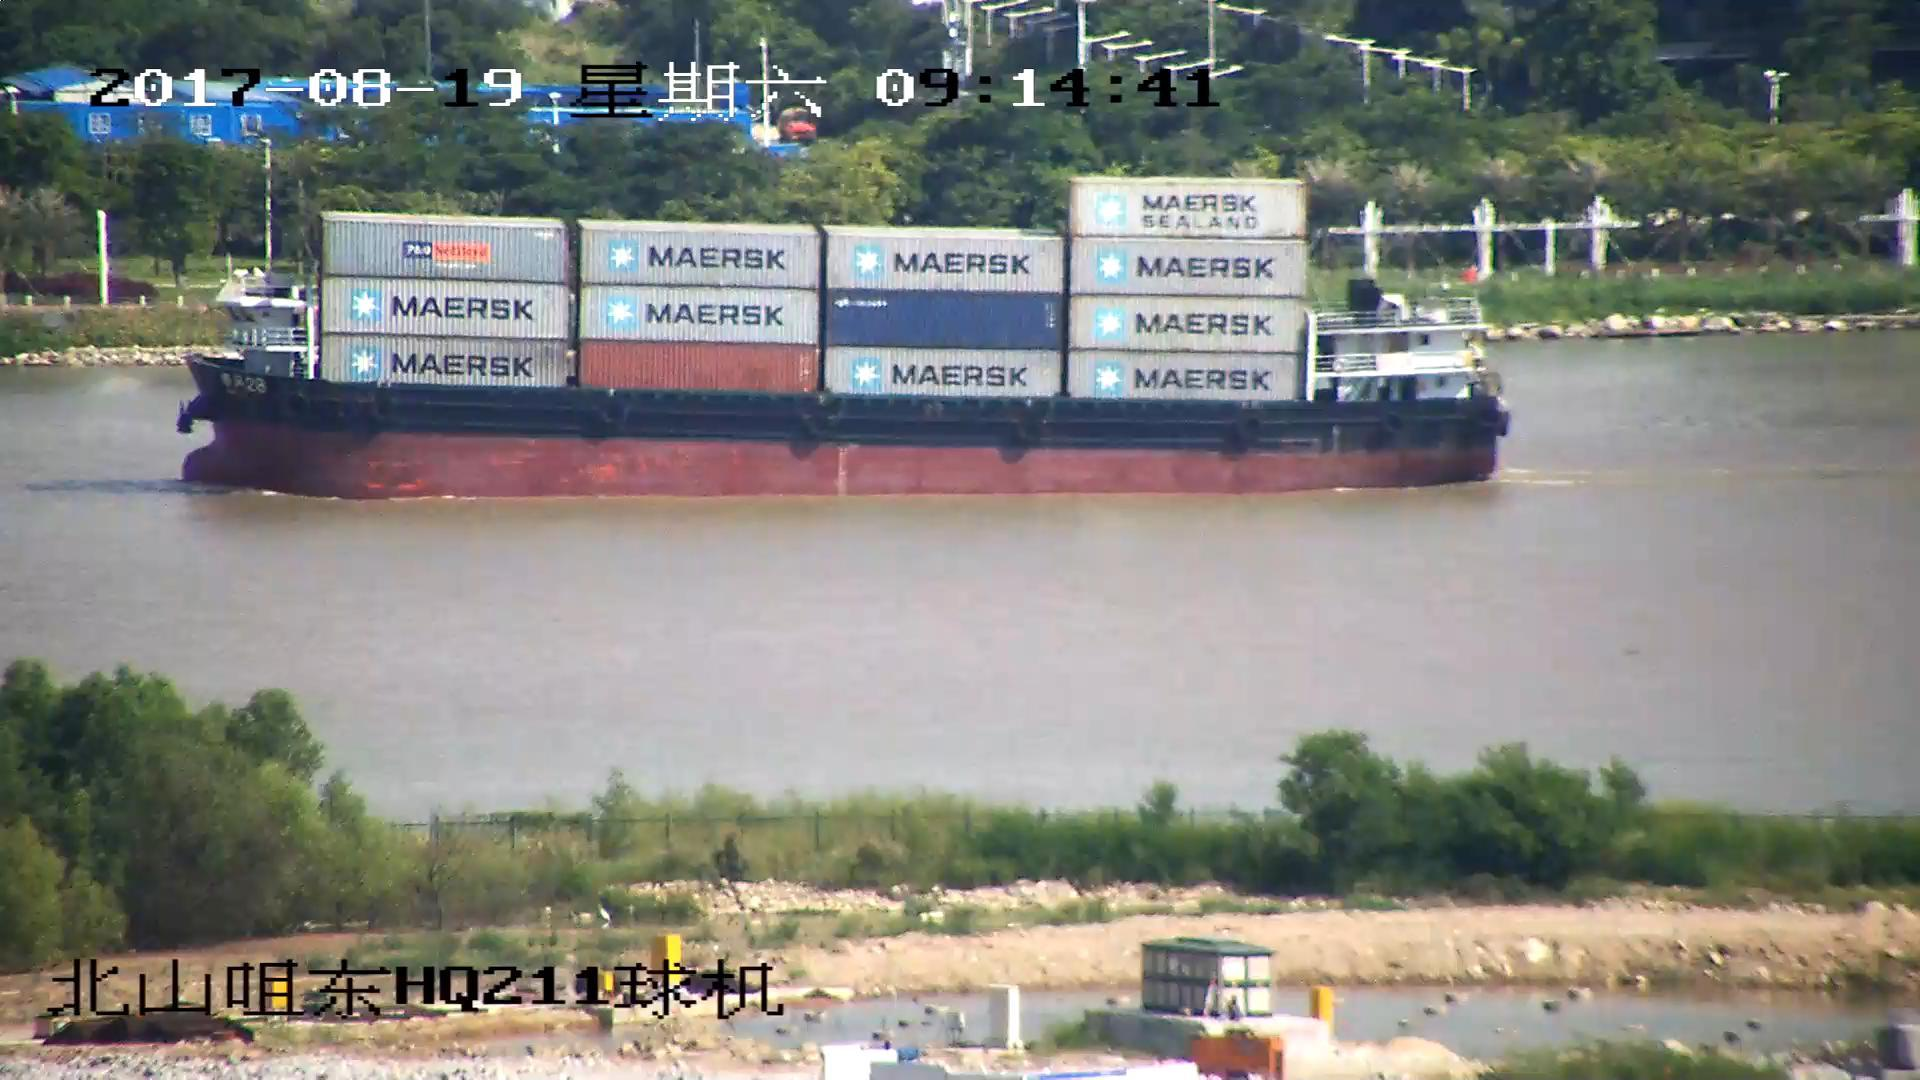Ship: (181, 174, 1511, 496)
